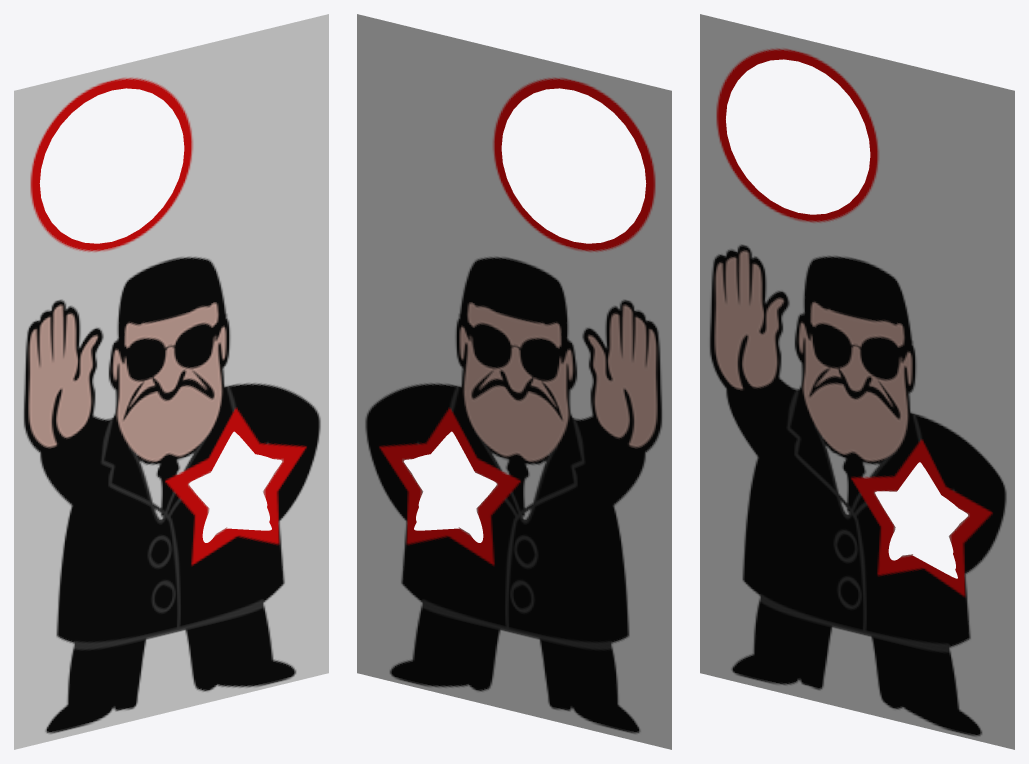
The model's file is GmanTorpedoCutout.dae.
The picture shows the model from 3 angles, left to right: view 1: azimuth 30°, elevation 25°; view 2: azimuth 150°, elevation 25°; view 3: azimuth 330°, elevation 25°; orthographic projection.
Parts seen in each view (by area): view 1: Plane; view 2: Plane; view 3: Plane.
Boxes of the visible parts, x1,y1,x2,y2 form: Plane: (14,14,328,749); Plane: (357,14,671,749); Plane: (700,14,1014,749).
Bounding box in the file's own units: 0.1524 × 1.33e-08 × 0.3048.
Materials: 1 (1 with a texture image).
